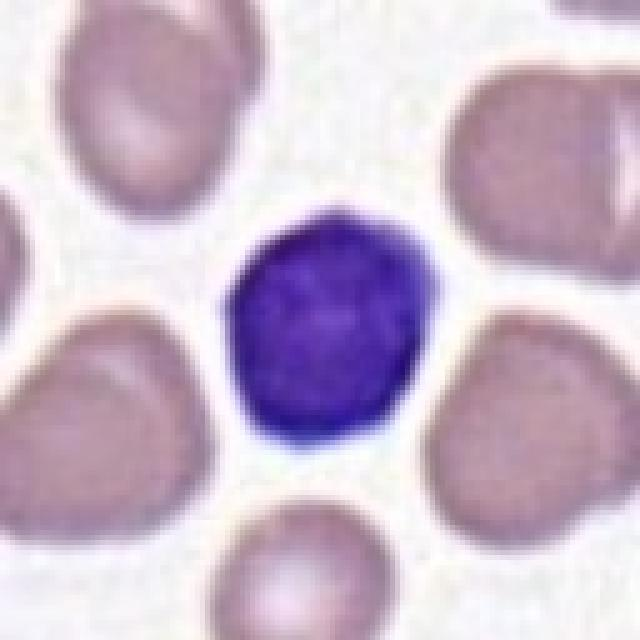lympho: (222, 203, 443, 451)
